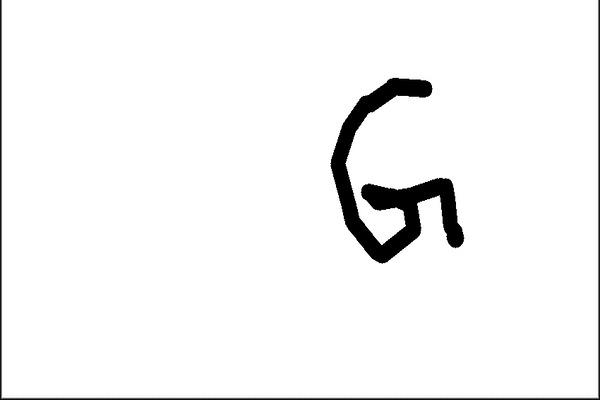G: (327, 73, 467, 264)
